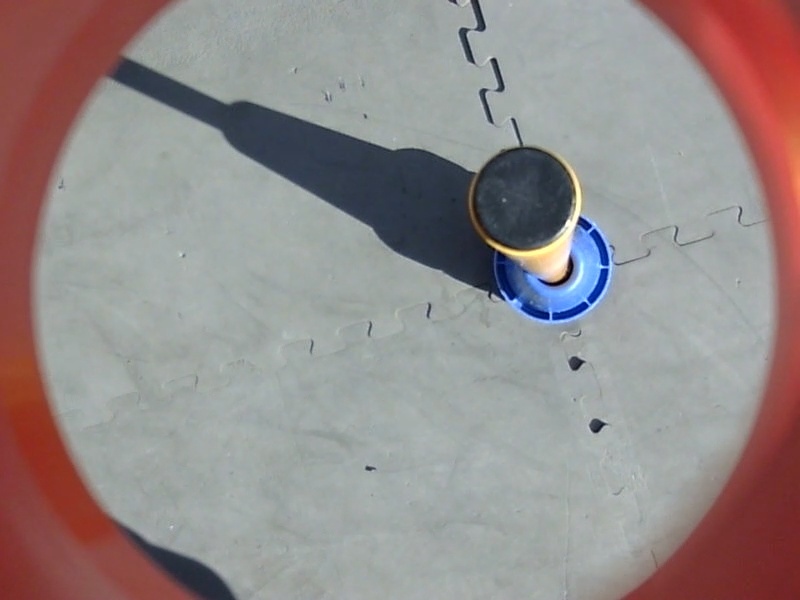tip: (461, 143, 587, 261)
